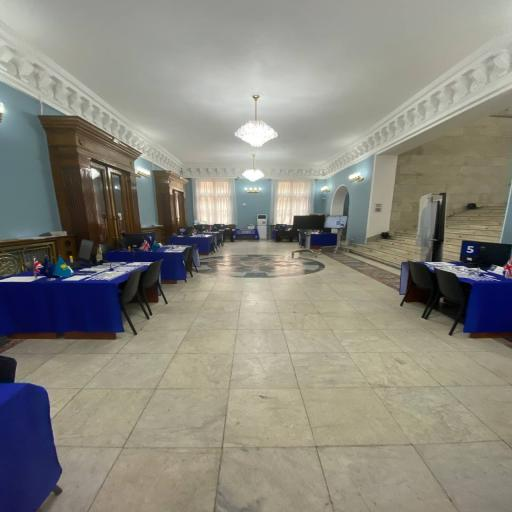bus: (435, 269, 469, 335), (400, 261, 438, 319), (119, 270, 149, 334), (139, 260, 167, 315), (0, 356, 17, 383), (186, 244, 198, 275), (184, 245, 195, 277), (183, 246, 191, 282), (100, 244, 115, 257), (287, 229, 298, 241), (299, 231, 306, 247), (276, 230, 286, 241), (117, 238, 126, 250), (24, 260, 33, 270), (211, 236, 216, 253), (219, 231, 224, 246)
stroller: (0, 268, 135, 338), (0, 384, 61, 511), (458, 273, 511, 337), (104, 246, 189, 283), (169, 235, 212, 255), (311, 233, 337, 248), (204, 232, 220, 248), (235, 229, 259, 239), (271, 230, 277, 240)
